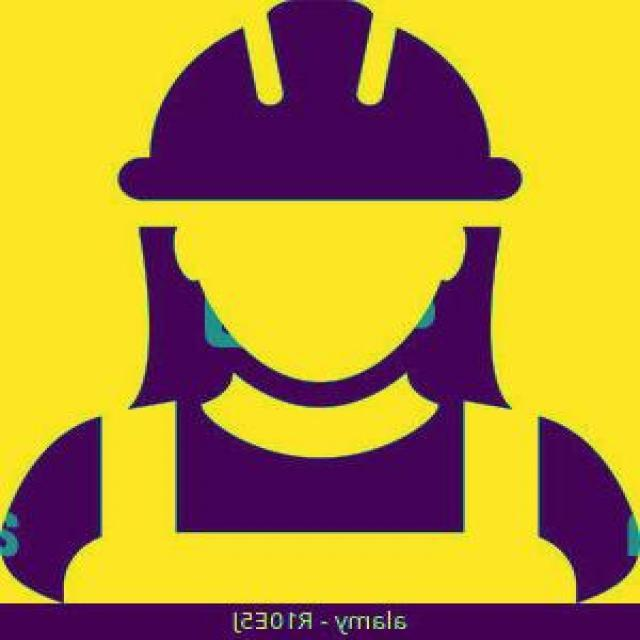reflective_jacket: (2, 385, 616, 614)
safety_helmet: (106, 5, 535, 210)
